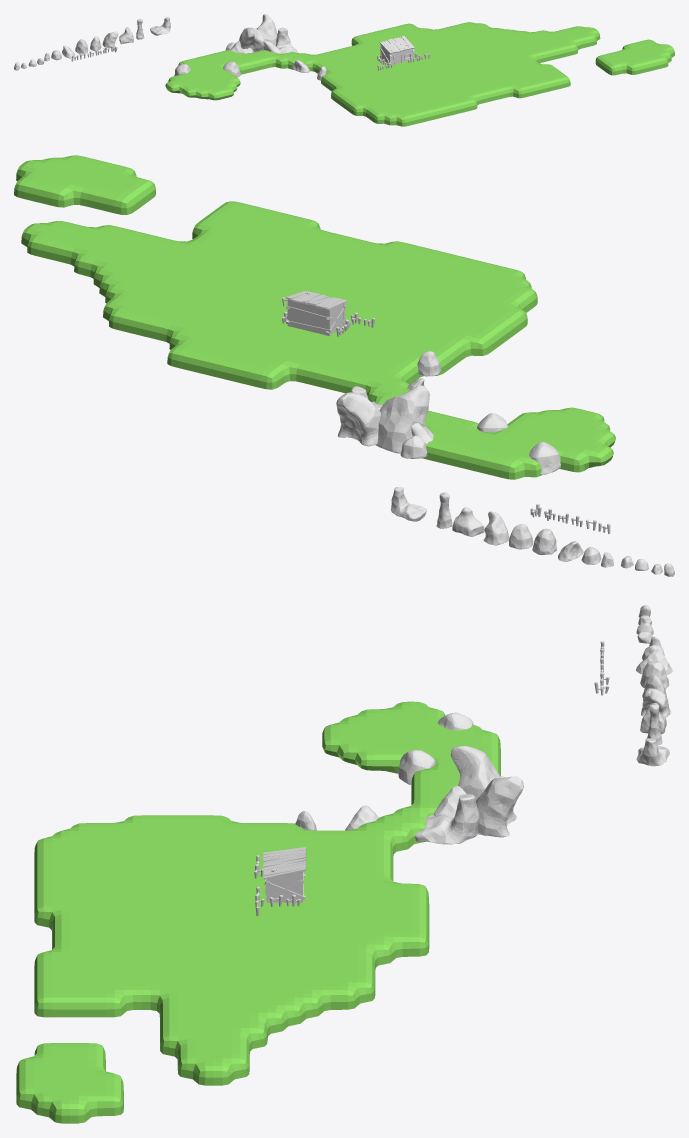
The model's file is map (1).fbx.
The picture shows the model from 3 angles, top to bottom: view 1: azimuth 30°, elevation 25°; view 2: azimuth 150°, elevation 25°; view 3: azimuth 270°, elevation 25°; orthographic projection. The views are drawn at different scales.
Visible parts, largest first — view 1: Plane, Cube.025, Cube.002, Cube.001, Cube.005, Cube.013; view 2: Plane, Cube.002, Cube.025, Cube.001, Cube.013, Cube.007, Cube.023, Cube.024; view 3: Plane, Cube.025, Cube.001, Cube.005, Cube.002, Cube.008.
Boxes of the visible parts, box(x1,y1,x2,y2) form: Plane: box(165, 22, 674, 126); Cube.025: box(379, 36, 414, 64); Cube.002: box(239, 27, 264, 52); Cube.001: box(256, 14, 277, 45); Cube.005: box(275, 27, 298, 53); Cube.013: box(150, 17, 170, 35); Plane: box(14, 155, 615, 479); Cube.002: box(376, 385, 429, 453); Cube.025: box(285, 291, 347, 336); Cube.001: box(336, 392, 380, 446); Cube.013: box(391, 487, 426, 521); Cube.007: box(529, 442, 560, 474); Cube.023: box(483, 511, 509, 545); Cube.024: box(452, 507, 484, 536); Plane: box(16, 701, 500, 1123); Cube.025: box(263, 847, 306, 902); Cube.001: box(476, 776, 523, 837); Cube.005: box(415, 794, 479, 844); Cube.002: box(450, 746, 500, 800); Cube.008: box(398, 750, 435, 784).
Size of what is drawn, in the model's own units: 6617 by 390 by 3657.
